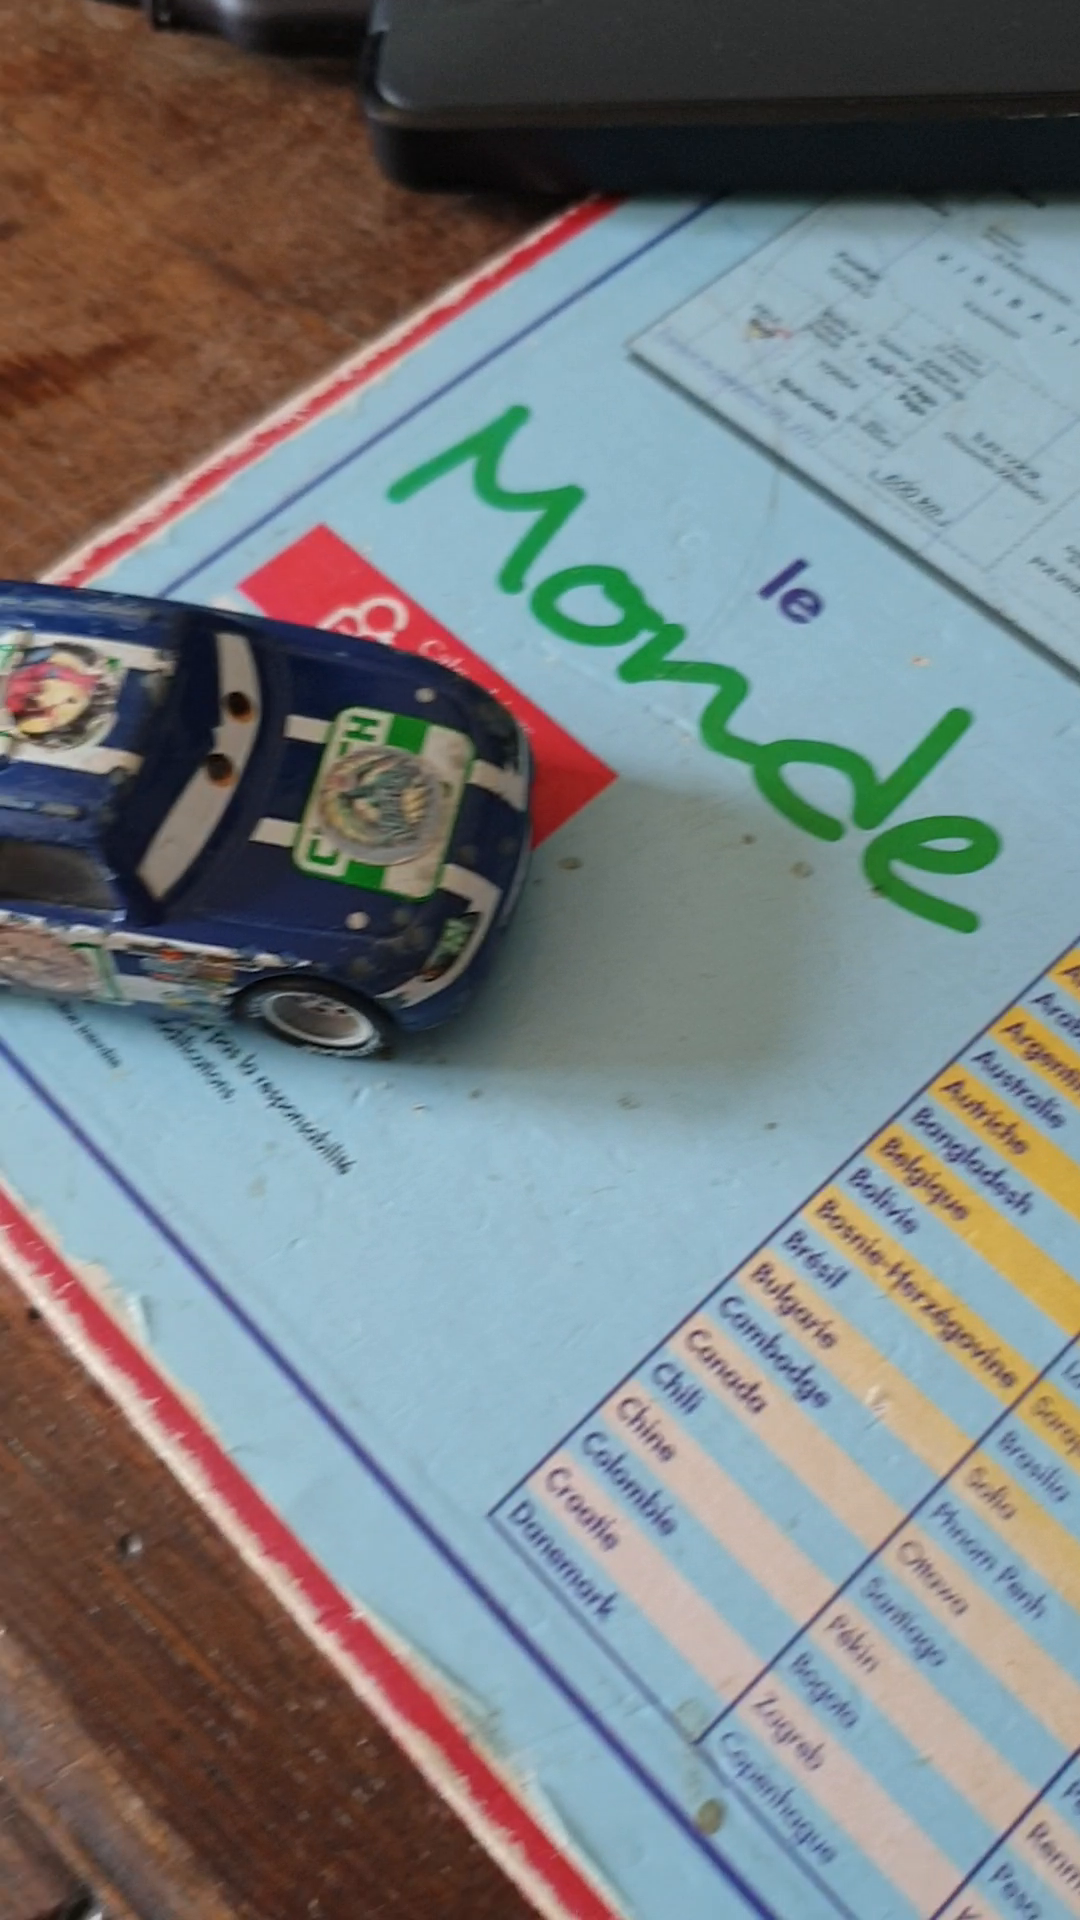cars: (1, 574, 537, 1071)
